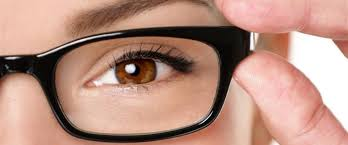pupil: (115, 56, 155, 83)
